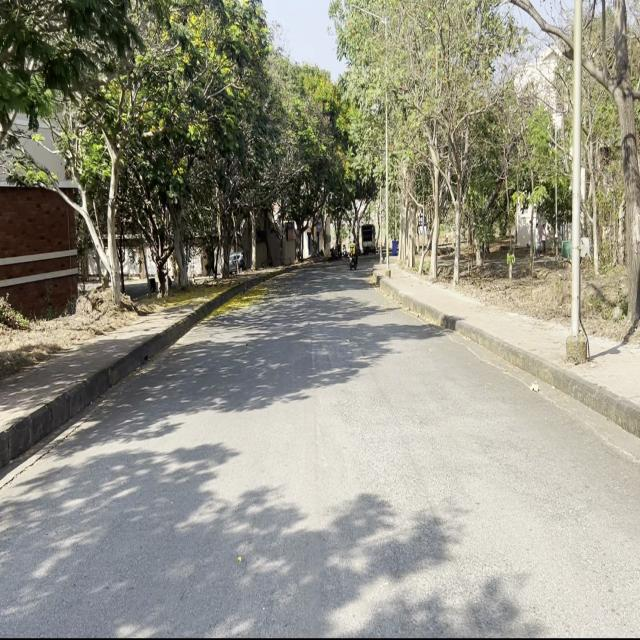Road: (1, 270, 636, 631)
